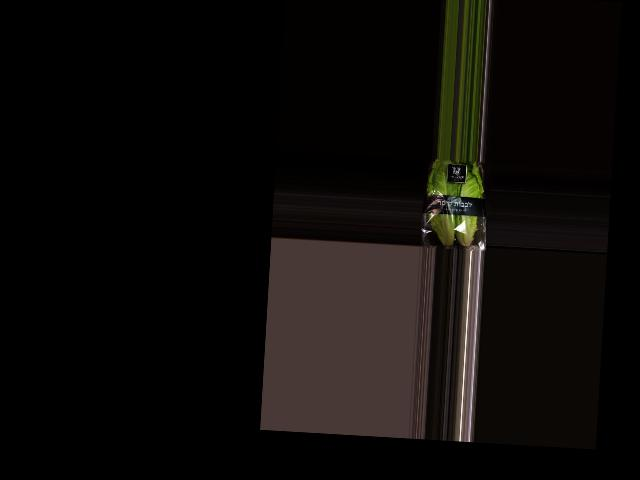lettuce: (424, 159, 490, 251)
